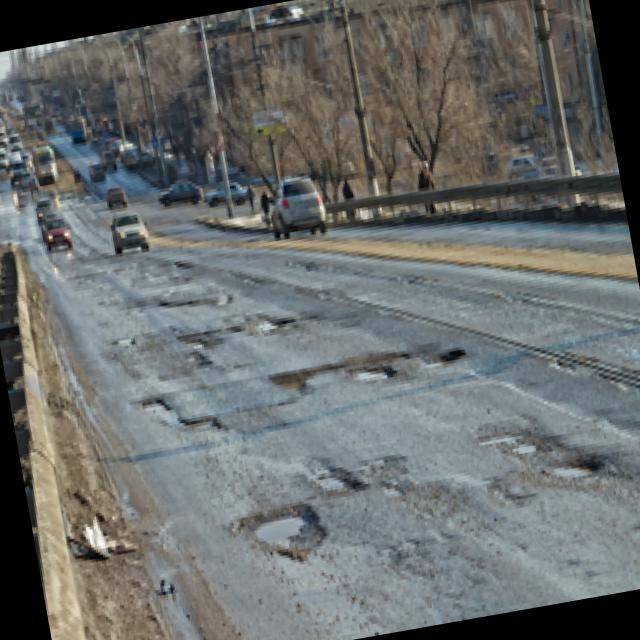Potholes: (265, 325, 482, 428), (471, 399, 622, 542), (122, 369, 255, 480), (235, 474, 369, 576), (166, 306, 297, 369), (152, 239, 211, 301), (106, 322, 163, 358)
